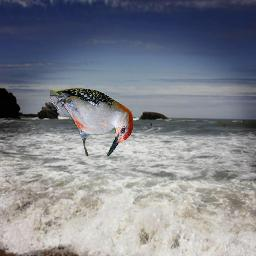Woodpecker: (51, 88, 134, 157)
